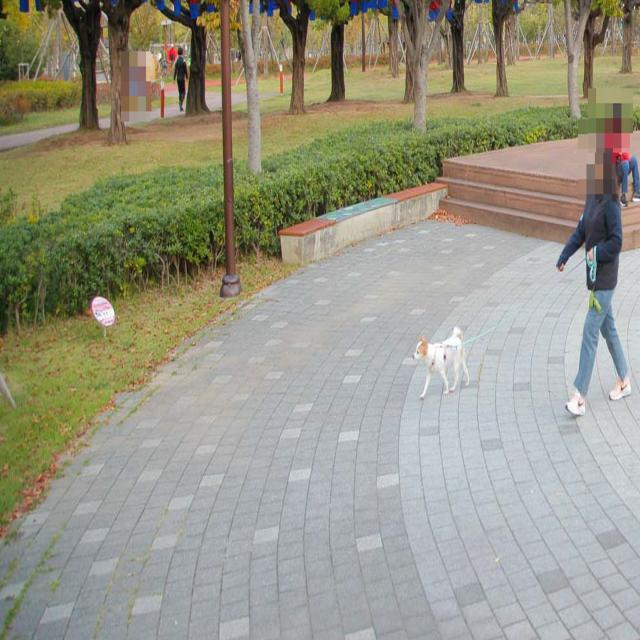Leashed_Dog: (412, 246, 596, 399)
